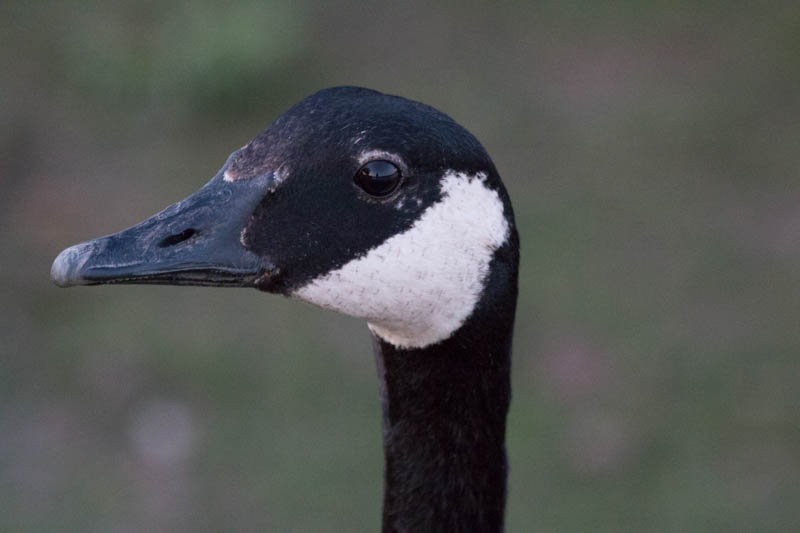goose-head: (48, 84, 521, 348)
